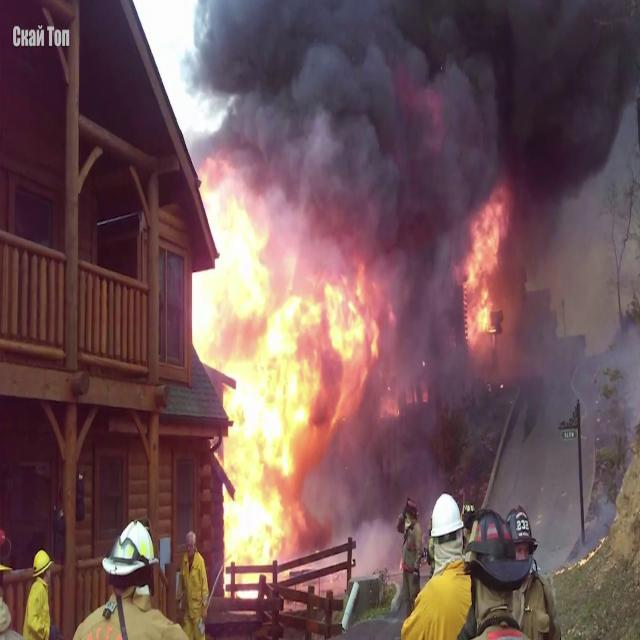Fire: (184, 168, 374, 582), (458, 184, 514, 343)
Smoke: (186, 1, 639, 274)
